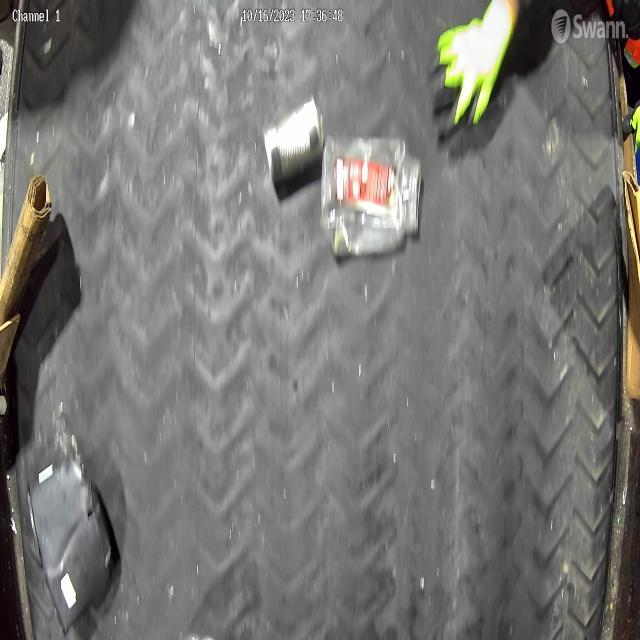can: (264, 89, 323, 192)
